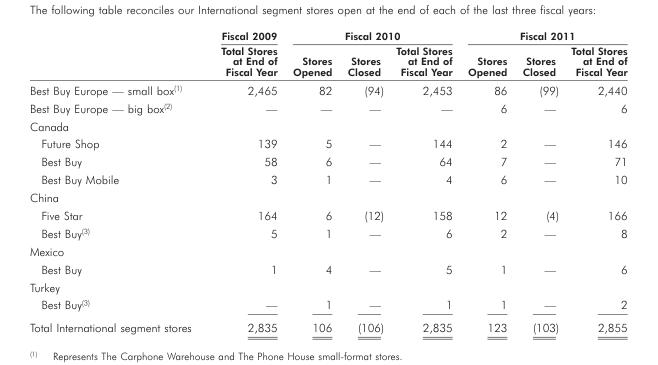table: (28, 29, 626, 334)
table column: (28, 29, 205, 334), (205, 29, 284, 334), (389, 29, 459, 334), (564, 29, 626, 334), (284, 29, 339, 334), (459, 29, 514, 334), (339, 29, 389, 334), (514, 29, 564, 334)
table column header: (28, 29, 626, 79)
table projected row header: (28, 116, 626, 134), (28, 241, 626, 259), (28, 277, 626, 295), (28, 188, 626, 205)
table row: (28, 42, 626, 79), (28, 295, 626, 315), (28, 79, 626, 98), (28, 315, 626, 334), (28, 98, 626, 116), (28, 116, 626, 134), (28, 134, 626, 152), (28, 152, 626, 170), (28, 170, 626, 188), (28, 205, 626, 223), (28, 223, 626, 241), (28, 241, 626, 259), (28, 259, 626, 277), (28, 277, 626, 295), (28, 188, 626, 205), (28, 29, 626, 42)
table spanning cell: (205, 29, 284, 79), (284, 29, 459, 42), (459, 29, 626, 42)
